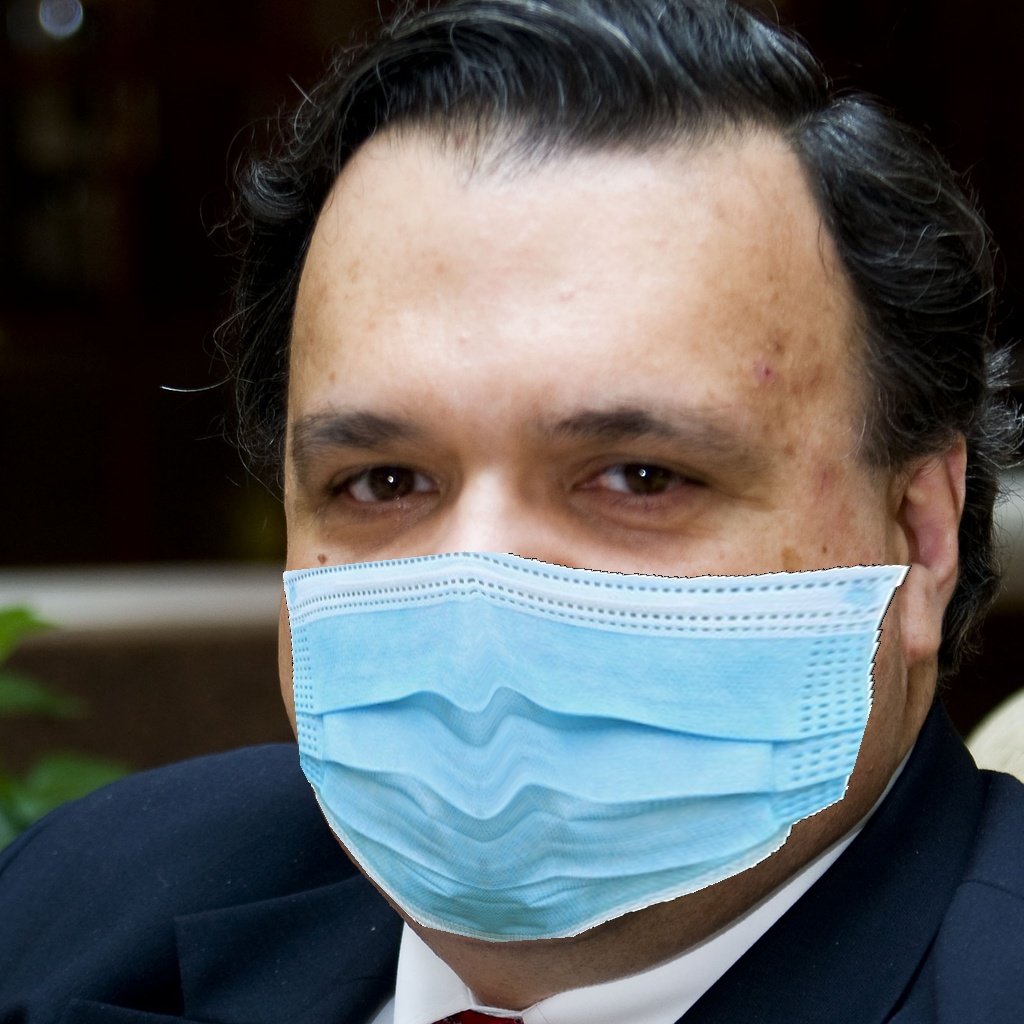Mask: (273, 370, 905, 949)
